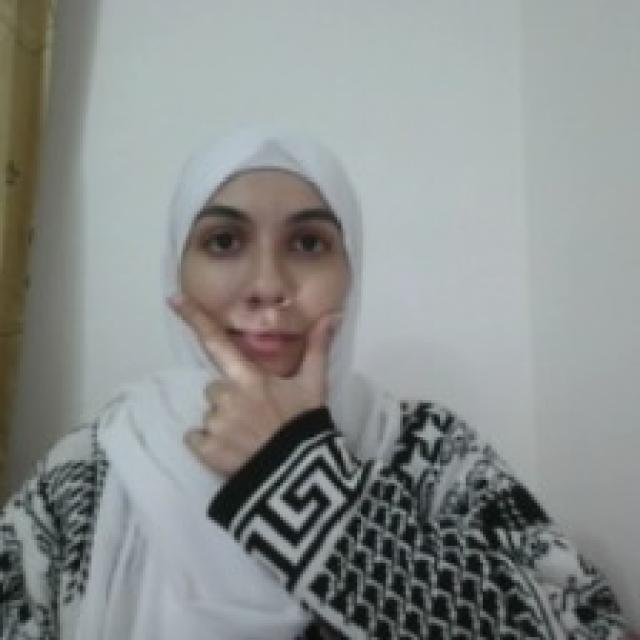smile: (164, 286, 350, 430)
